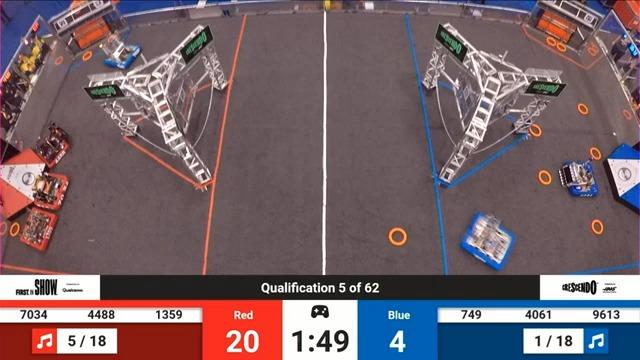robot: (453, 199, 521, 276), (9, 208, 62, 256), (96, 25, 144, 77), (28, 121, 78, 166), (24, 168, 72, 214), (559, 157, 601, 206)
